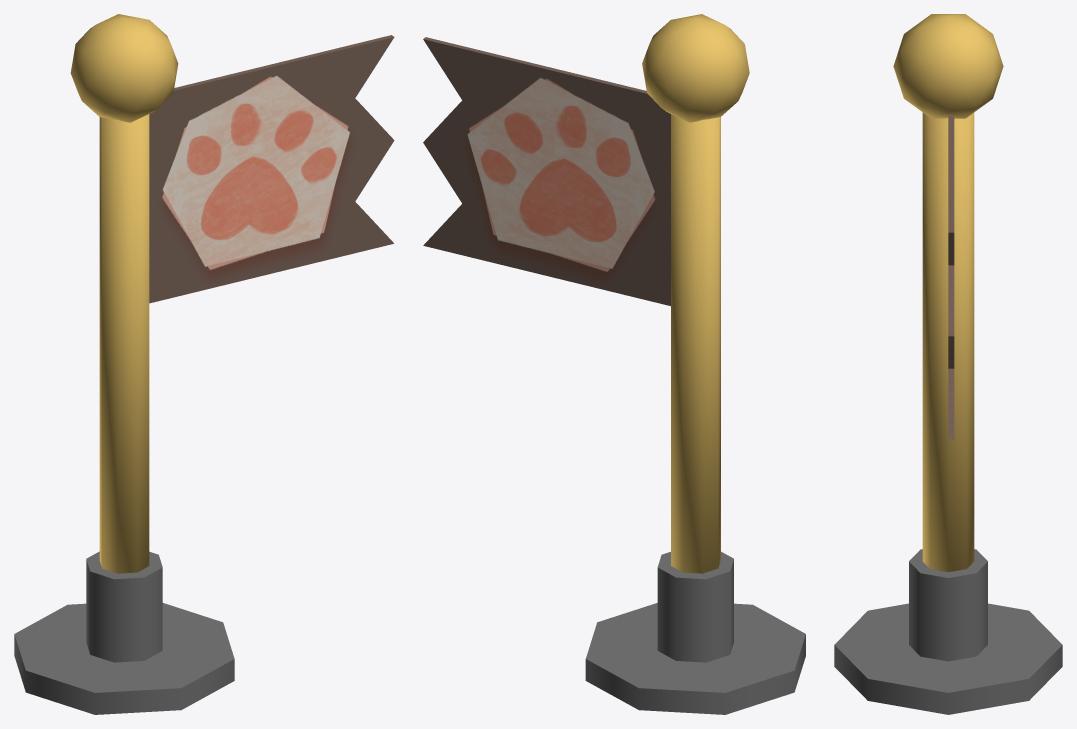
The model's file is flag3.fbx.
3 renders of one model, left to right at view 1: azimuth 30°, elevation 25°; view 2: azimuth 150°, elevation 25°; view 3: azimuth 270°, elevation 25°, orthographic.
Visible parts, largest first — view 1: Plane, Cylinder.002, Cylinder, Icosphere, Cylinder.001; view 2: Plane, Cylinder.002, Cylinder, Icosphere, Cylinder.001; view 3: Cylinder.002, Cylinder, Icosphere, Cylinder.001, Plane.
Boxes of the visible parts, left/top/right/bottom form: Plane: left=149, top=35, right=394, bottom=303; Cylinder.002: left=99, top=114, right=149, bottom=573; Cylinder: left=14, top=603, right=234, bottom=714; Icosphere: left=70, top=14, right=178, bottom=122; Cylinder.001: left=86, top=551, right=162, bottom=662; Plane: left=423, top=37, right=670, bottom=305; Cylinder.002: left=671, top=114, right=720, bottom=573; Cylinder: left=585, top=603, right=805, bottom=714; Icosphere: left=642, top=14, right=749, bottom=122; Cylinder.001: left=657, top=551, right=733, bottom=662; Cylinder.002: left=922, top=112, right=974, bottom=572; Cylinder: left=834, top=603, right=1062, bottom=714; Icosphere: left=893, top=14, right=1003, bottom=118; Cylinder.001: left=909, top=549, right=987, bottom=661; Plane: left=948, top=115, right=954, bottom=439.
Bounding box in the file's own units: 374 × 629 × 200.
3 materials, 1 textured.
